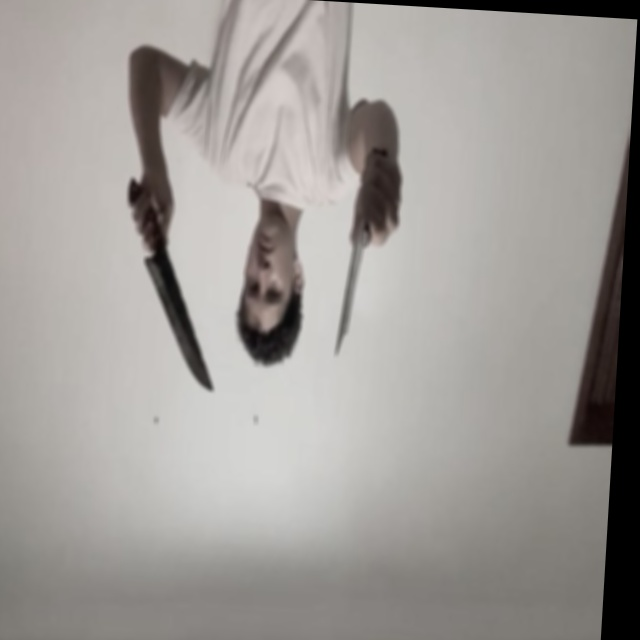Sharp-Object: (137, 255, 222, 392), (335, 232, 366, 358)
